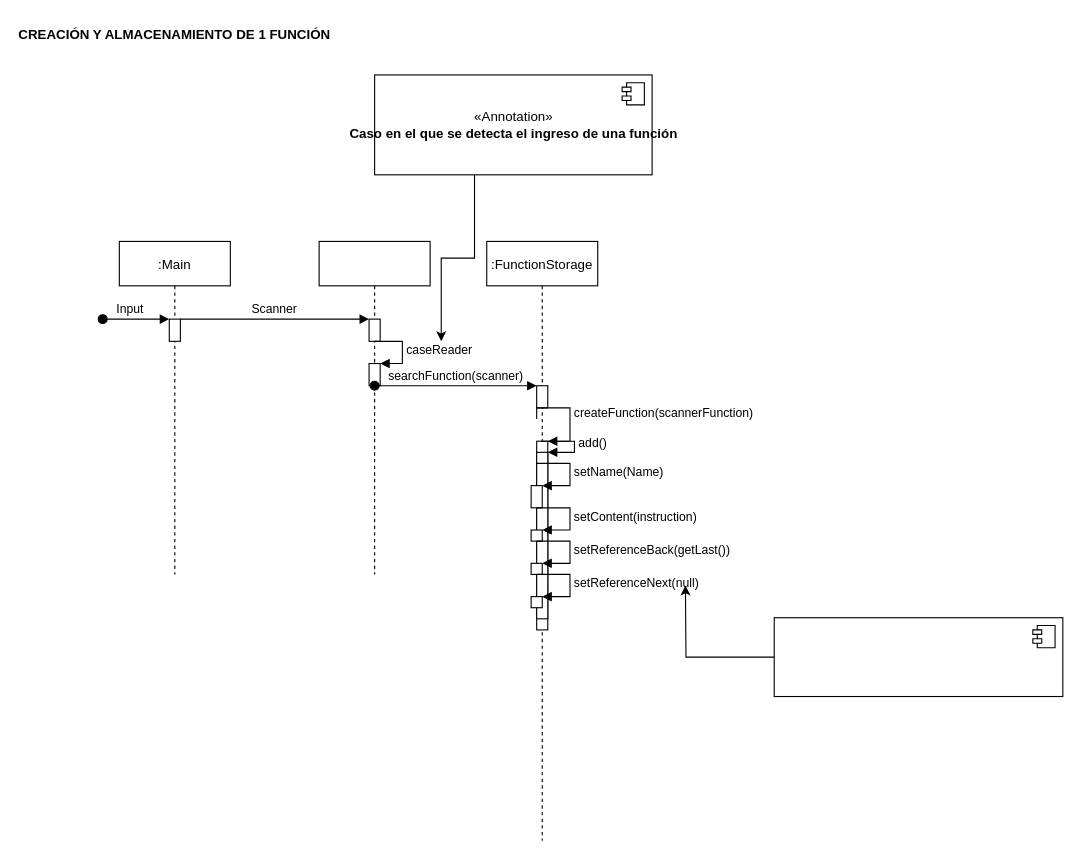
This 1090x860 diagram has some shape labels left out. Each missing label, with the centre of its shape:
:Reader: (x=374, y=407)
«Annotation» Este es el caso en el que no hay nodos creados: (x=918, y=657)
